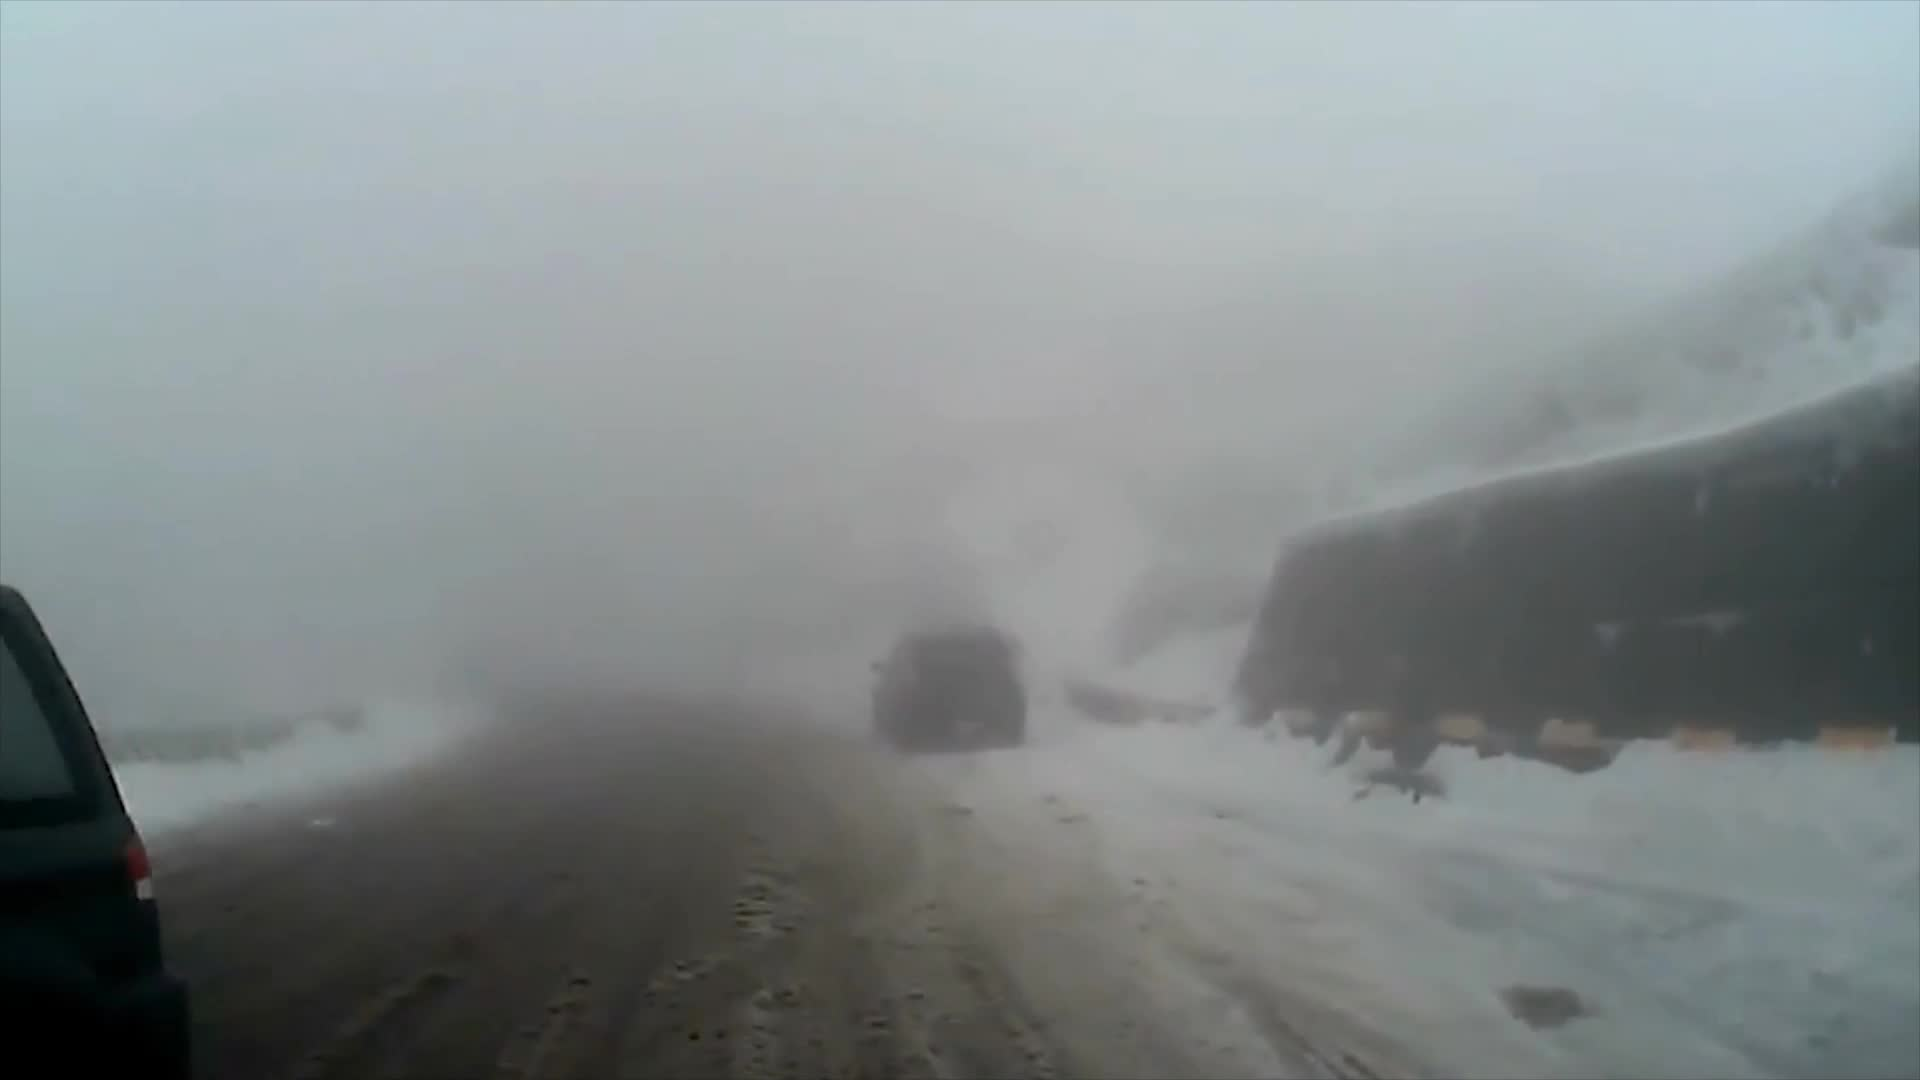vehicle: (0, 587, 185, 1076), (865, 618, 1025, 754)
